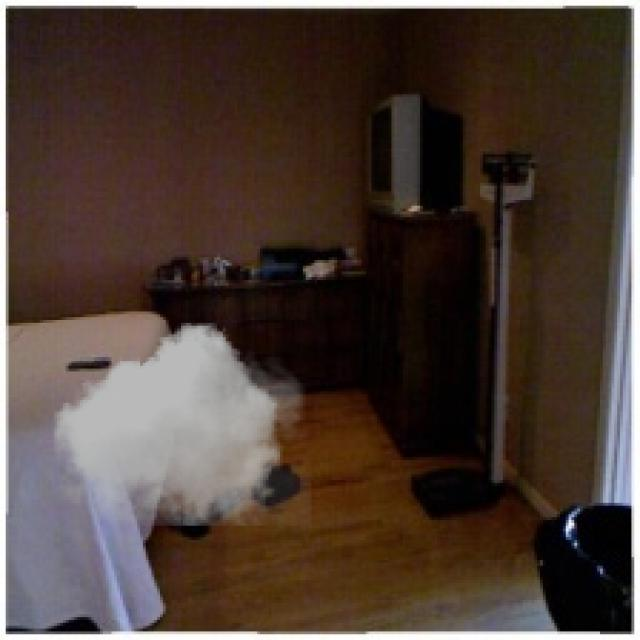smoke: (48, 323, 312, 526)
